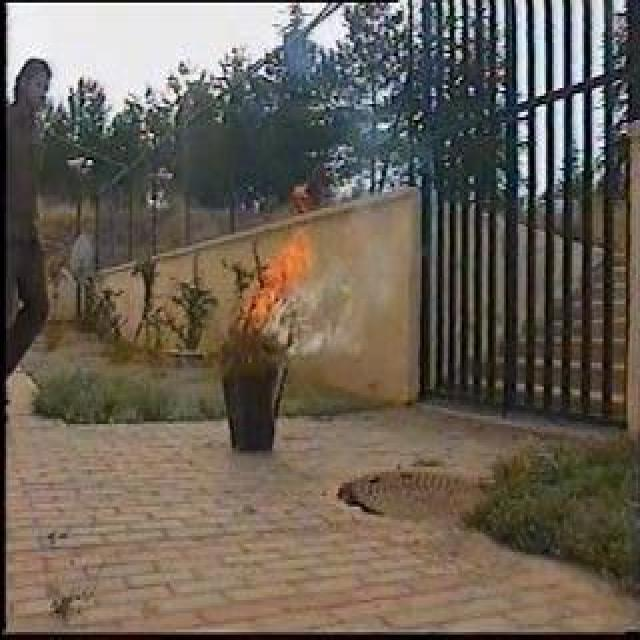fire: (238, 224, 308, 315)
